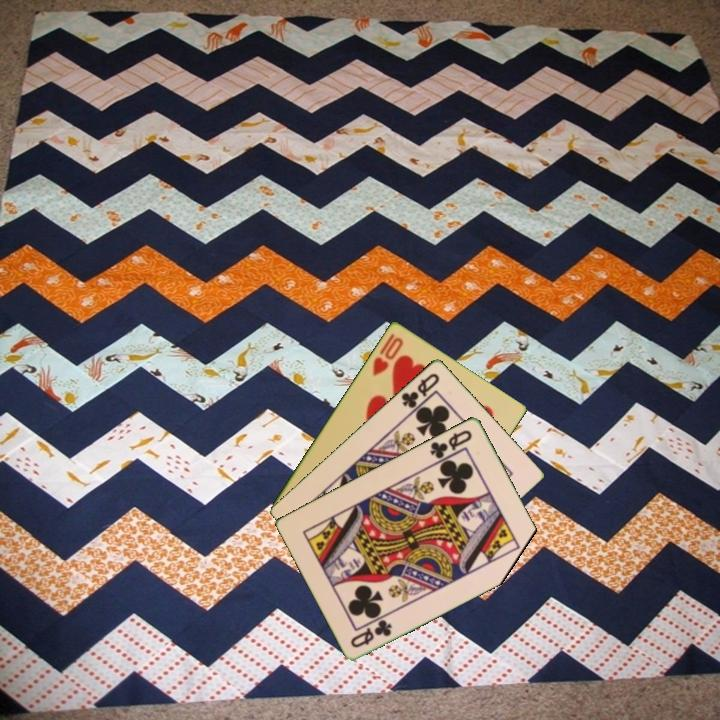10h: (369, 333, 406, 379)
Qc: (398, 369, 443, 411), (426, 426, 475, 462), (347, 615, 395, 650)
